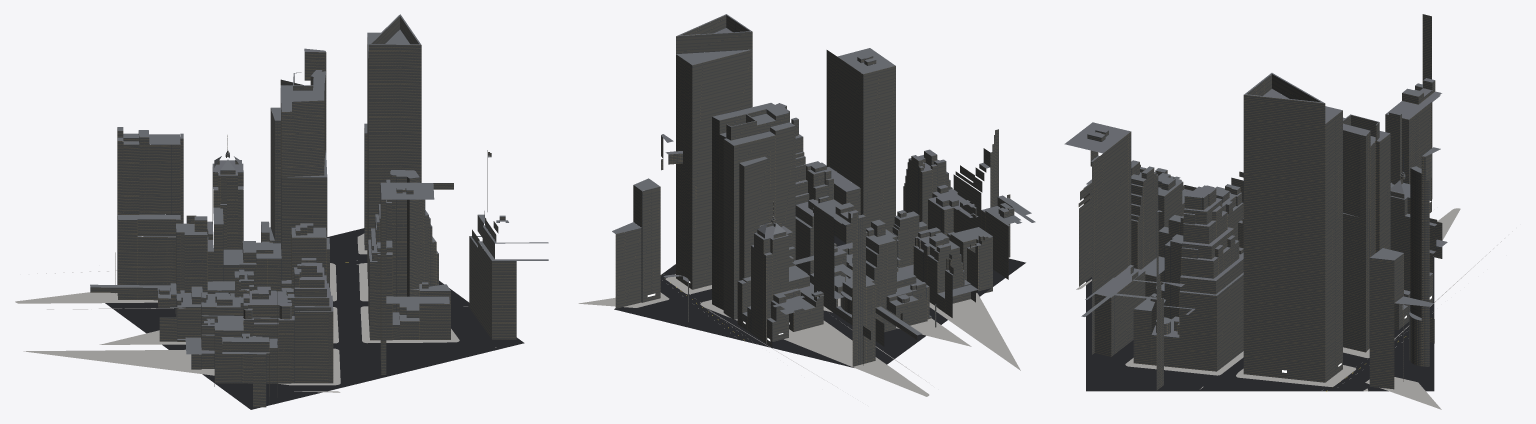
3 views of the same model, side by side, from view 1: azimuth 30°, elevation 25°; view 2: azimuth 150°, elevation 25°; view 3: azimuth 270°, elevation 25° (orthographic). The views are drawn at different scales.
Visible parts, largest first — view 1: t2_6, detail; view 2: t2_6, detail; view 3: t2_6, detail.
Boxes of the visible parts, x1,y1,x2,y2 form: t2_6: (90, 14, 548, 409); detail: (15, 233, 496, 392); t2_6: (612, 14, 1035, 367); detail: (578, 274, 1020, 396); t2_6: (1064, 14, 1447, 391); detail: (1076, 208, 1512, 409).
Size of the model in its own units: 384 by 225 by 328.
Materials: 5 (2 with a texture image).
